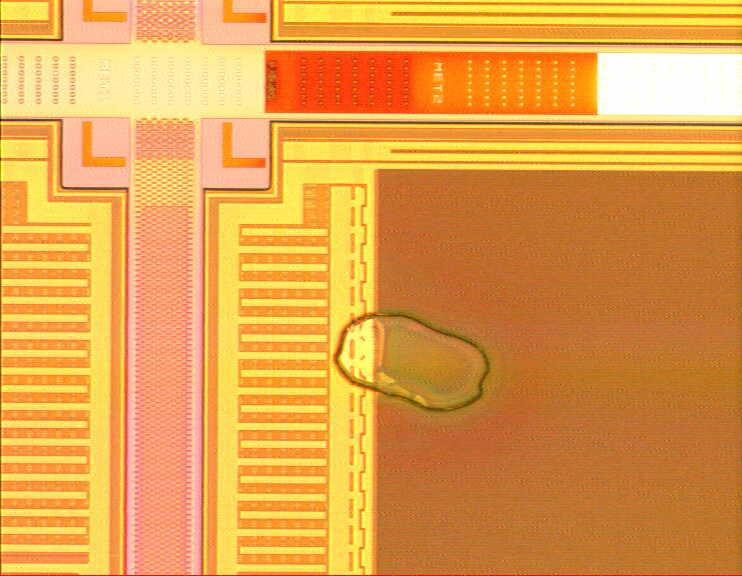PIQ PARTICLE: (333, 306, 499, 419)
